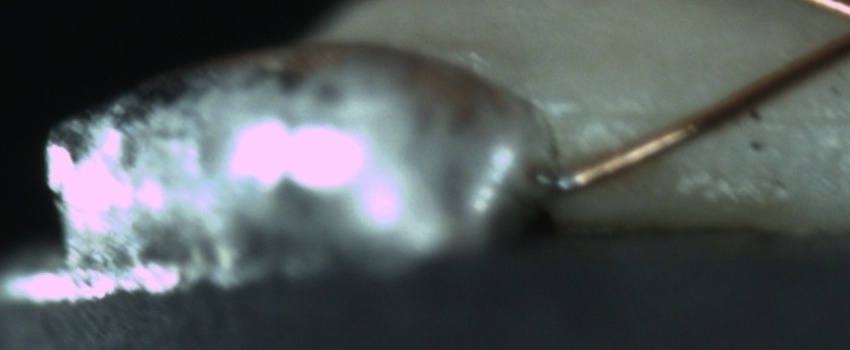DL: (611, 83, 849, 152)
